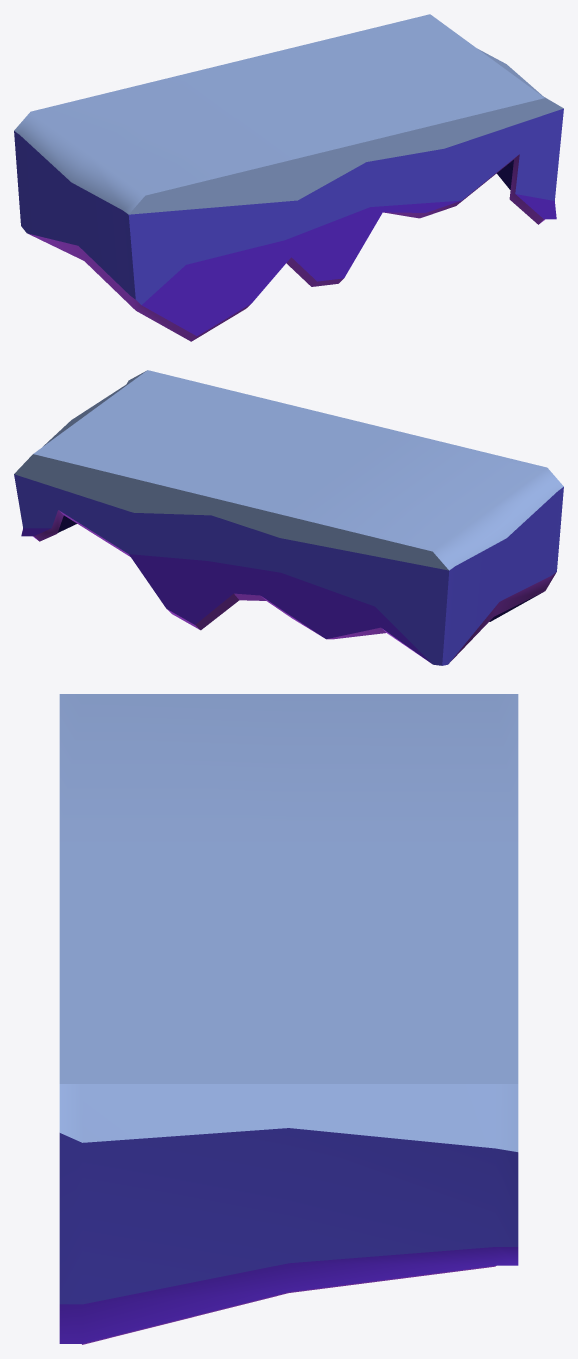
The model's file is blue_platform.fbx.
The picture shows the model from 3 angles, top to bottom: view 1: azimuth 30°, elevation 25°; view 2: azimuth 150°, elevation 25°; view 3: azimuth 270°, elevation 25°; orthographic projection. The views are drawn at different scales.
Parts seen in each view (by area): view 1: blue_platform; view 2: blue_platform; view 3: blue_platform.
Boxes of the visible parts, x1,y1,x2,y2 form: blue_platform: (14,14,563,341); blue_platform: (14,370,563,665); blue_platform: (59,694,518,1344).
Size of the model in its own units: 3.4 by 1.22 by 1.55.
